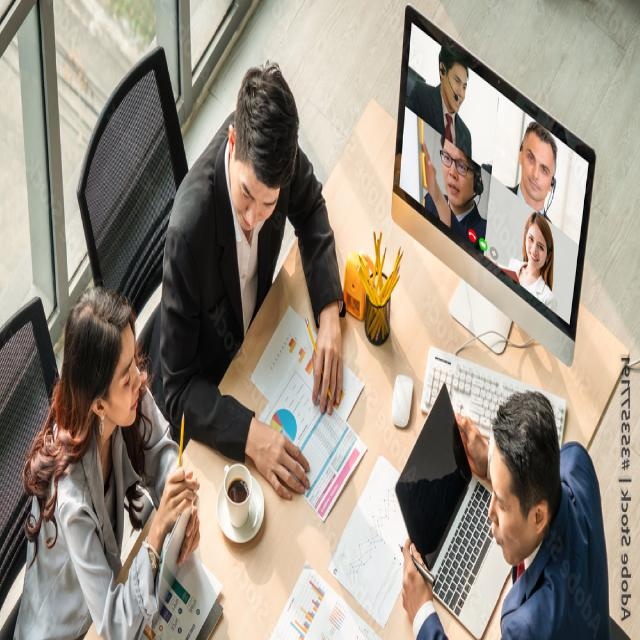adult: (158, 58, 346, 504), (13, 279, 201, 640), (401, 389, 613, 640)
